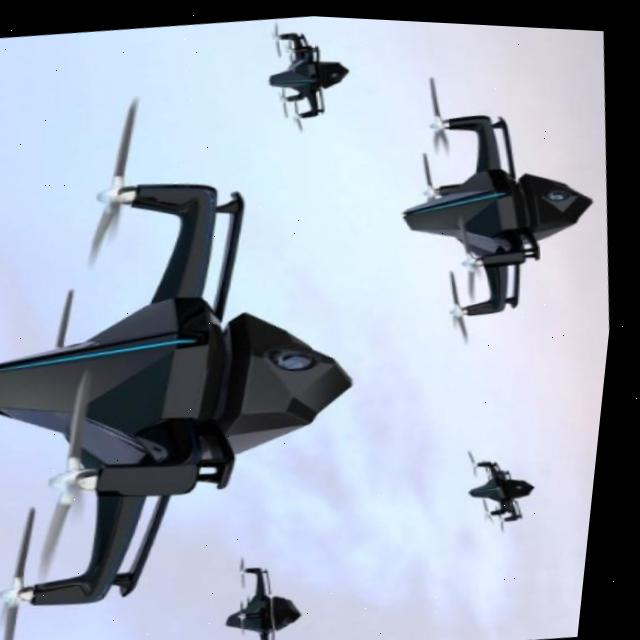drones: (0, 88, 343, 627), (391, 76, 627, 358), (408, 419, 607, 556), (201, 10, 401, 141), (192, 536, 339, 640)
